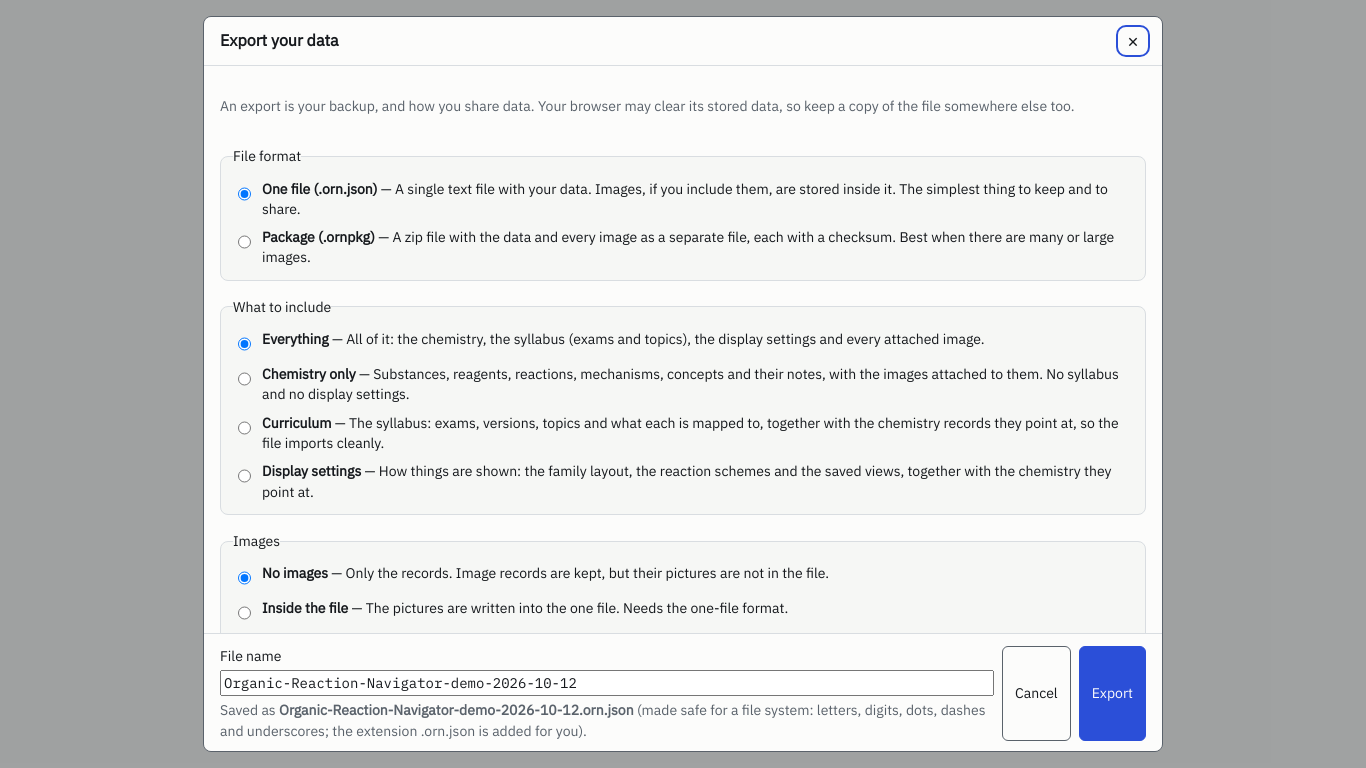
it: the options › an image choice that does not fit the format is disabled and says why; the image sizes are stated when known
Step 1. Click the radio button labelled "Package" → (244, 242), box [238,230,251,254]
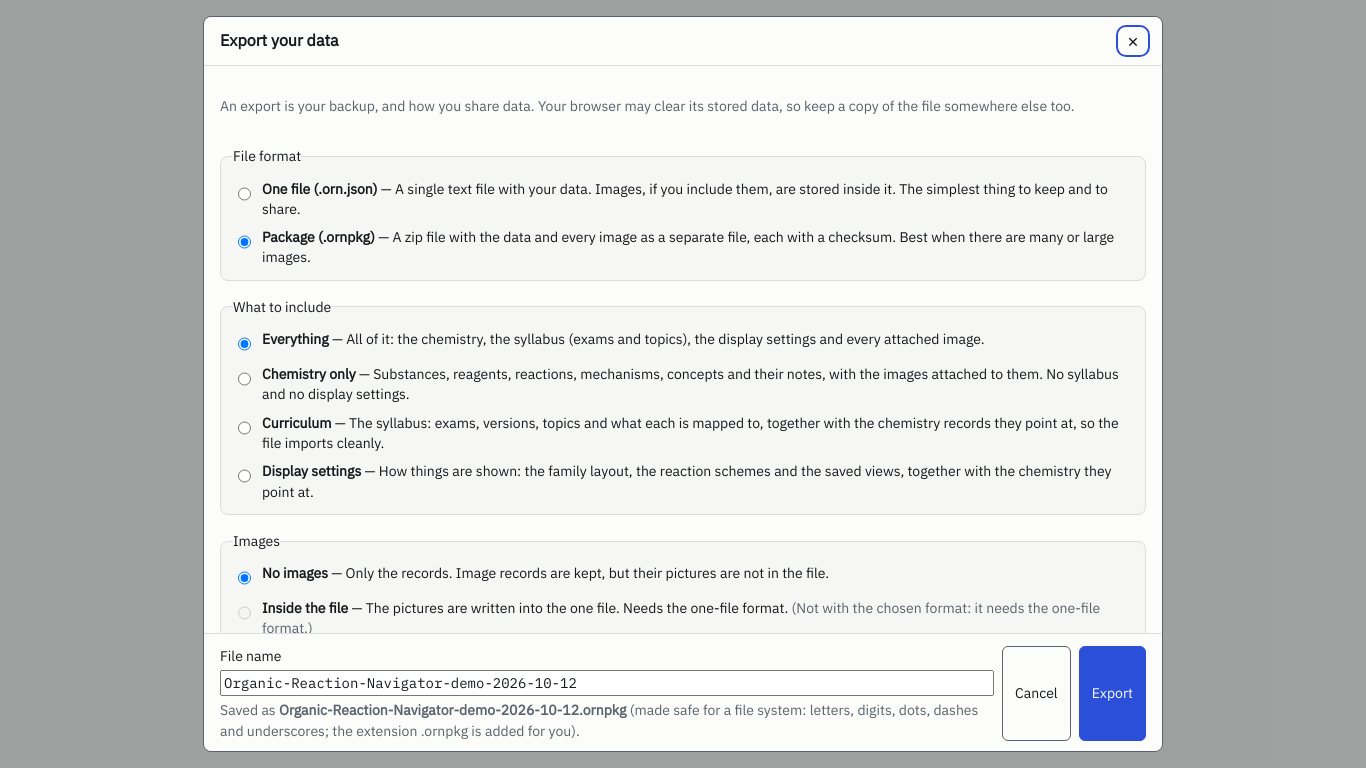
Expected: the radio button labelled "Inside the file" is disabled, [238,601,251,625]
